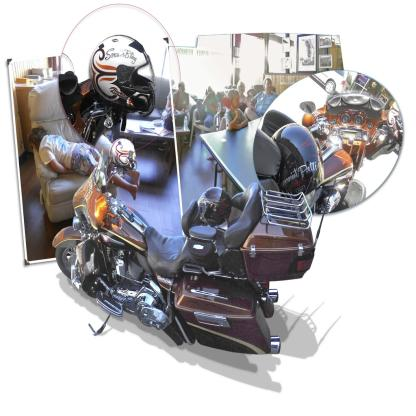Helmet: (89, 34, 158, 130), (272, 123, 326, 213), (195, 186, 232, 228), (109, 138, 137, 174)
